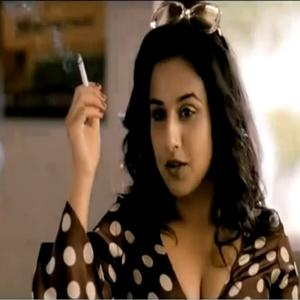cigarette: (76, 52, 103, 106)
